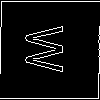W: (25, 24, 73, 74)
